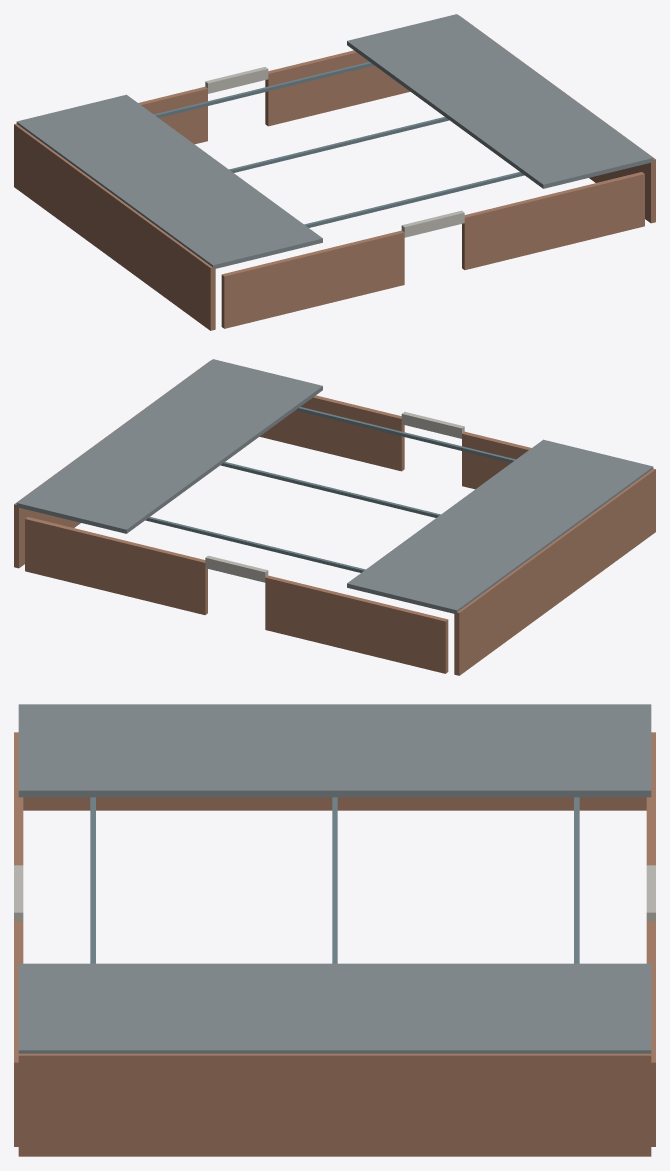
File: urban-1-0.glb
3 renders of one model, top to bottom at view 1: azimuth 30°, elevation 25°; view 2: azimuth 150°, elevation 25°; view 3: azimuth 270°, elevation 25°, orthographic. The views are drawn at different scales.
Parts seen in each view (by area): view 1: urban-1-0; view 2: urban-1-0; view 3: urban-1-0.
Part boxes in pixels (left/top/right/bottom): urban-1-0: left=14, top=14, right=655, bottom=330; urban-1-0: left=14, top=359, right=655, bottom=675; urban-1-0: left=14, top=704, right=655, bottom=1156.
Size of the model in its own units: 89 by 12.4 by 69.
